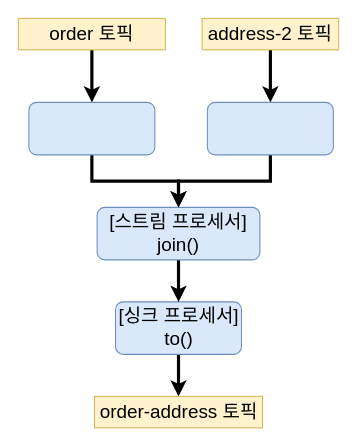
Some shapes in this 357 by 446 pixel diagram are drawn without their labels. Here are the shapes that lost their labels. From the top down, the box of each, then its label:
(28, 101, 155, 155): [소스 프로세서] stream()
(206, 101, 333, 155): [소스 프로세서] globalTable()
